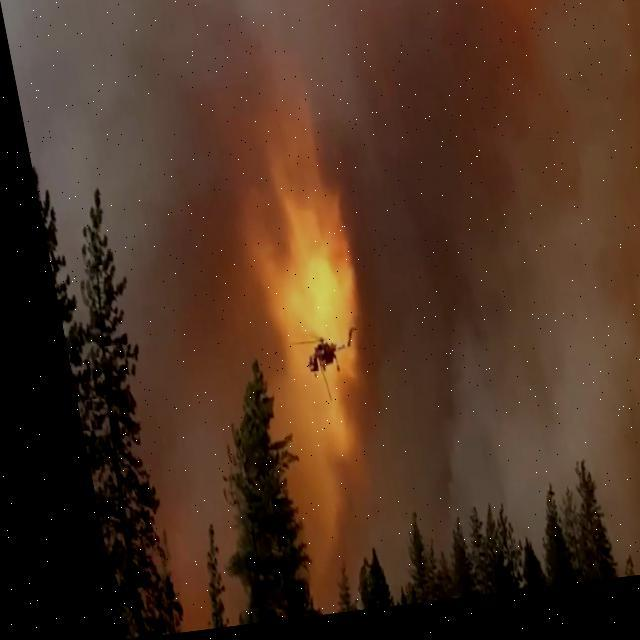Fire: (211, 90, 376, 521)
